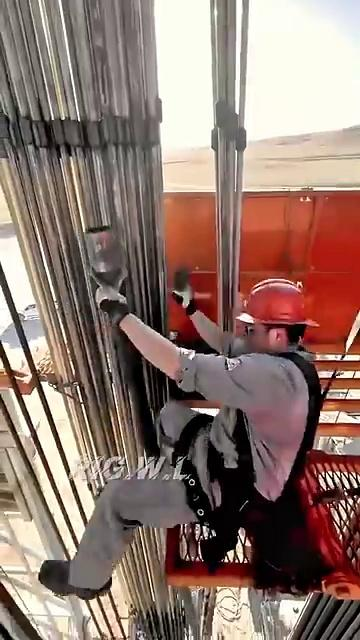gloves: (38, 283, 212, 337)
helmet: (238, 280, 308, 342)
shoes: (35, 523, 87, 593)
worker: (62, 238, 317, 600)
